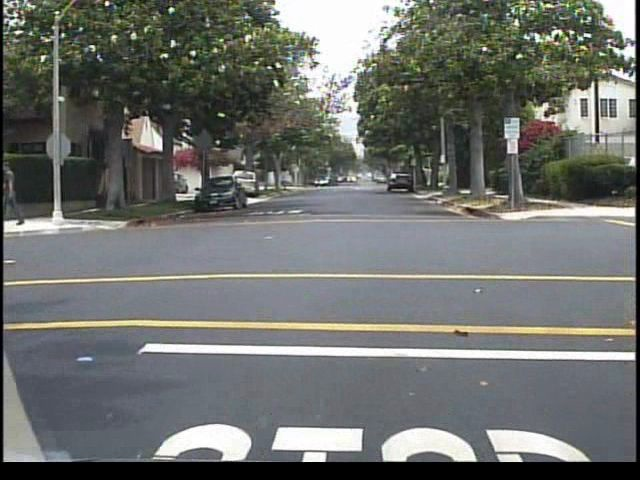person: (1, 154, 30, 228)
